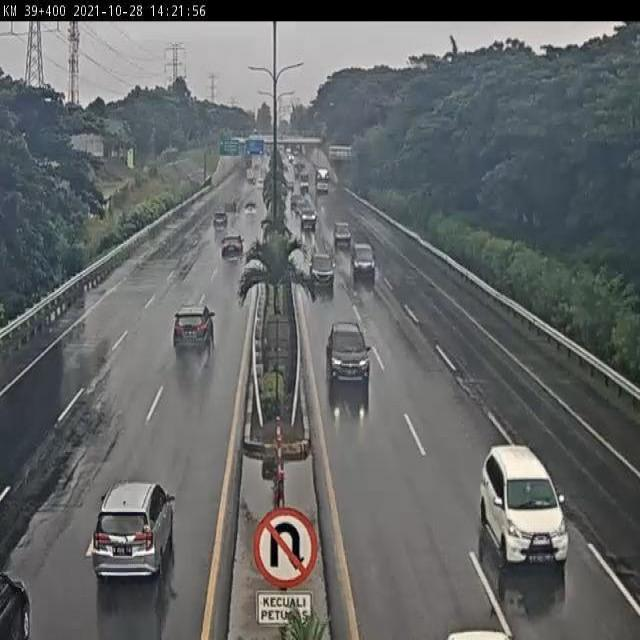car: (478, 443, 569, 560), (91, 481, 176, 588), (325, 321, 372, 384), (172, 305, 218, 356), (350, 244, 378, 279), (309, 253, 335, 290), (332, 220, 351, 245)
